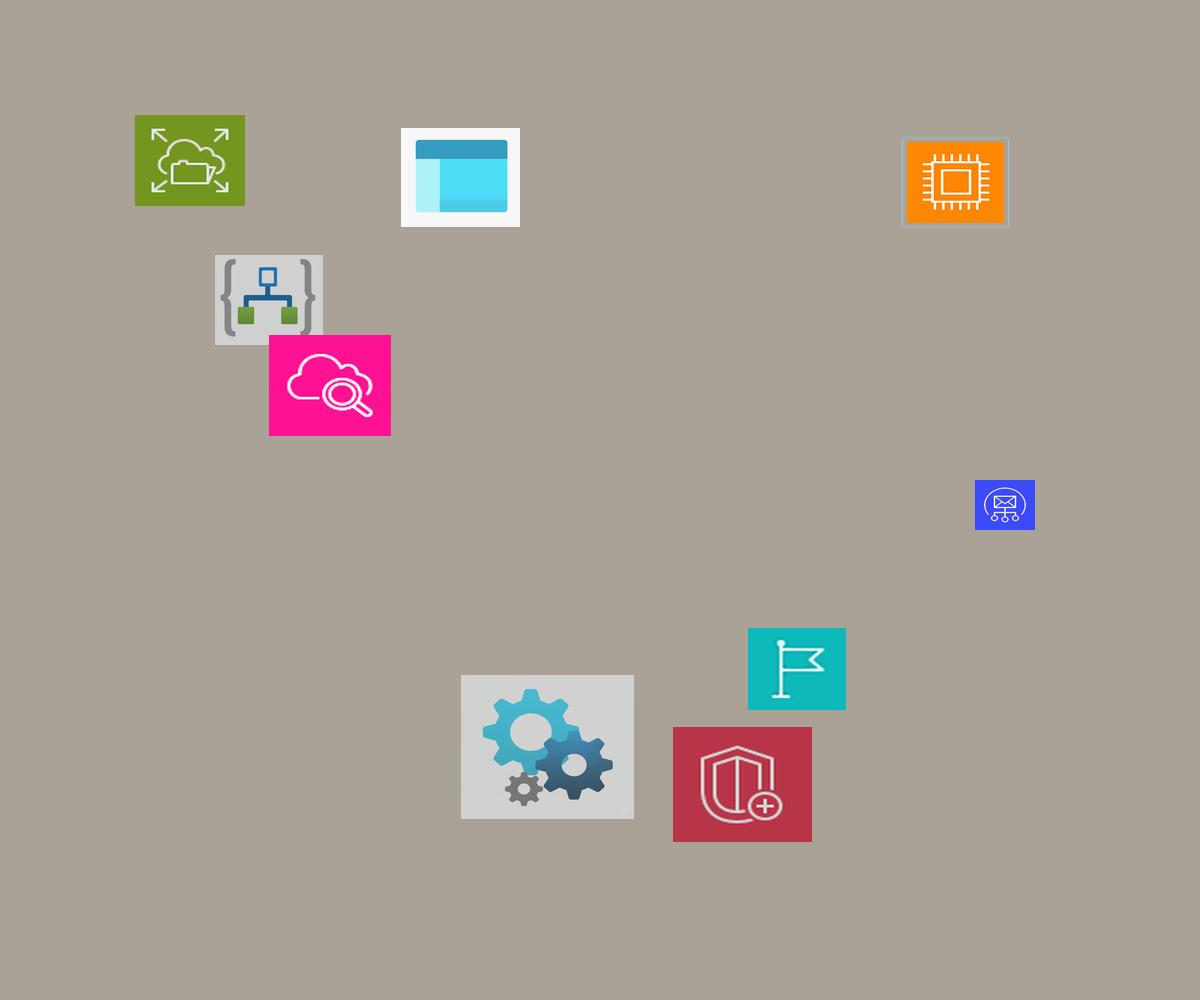AWS-Category_Compute: (901, 137, 1010, 228)
AWS-CloudWatch: (269, 335, 391, 436)
AWS-EFS: (135, 115, 245, 206)
AWS-Region: (748, 628, 846, 710)
AWS-Shield: (673, 727, 812, 842)
AWS-Simple-Email-Service: (975, 480, 1035, 530)
Azure_api: (461, 675, 634, 819)
Azure_integration-204-Logic-Apps: (215, 255, 323, 345)
Azure_management-portal: (401, 128, 520, 227)
